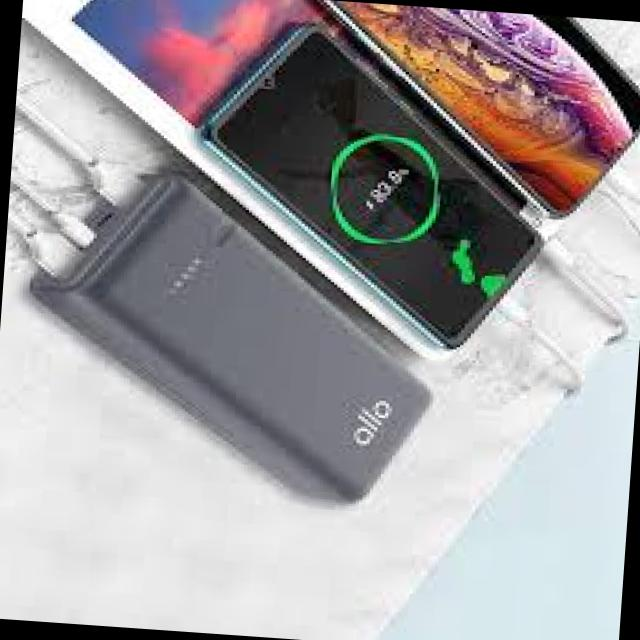power_bank: (12, 168, 444, 516)
